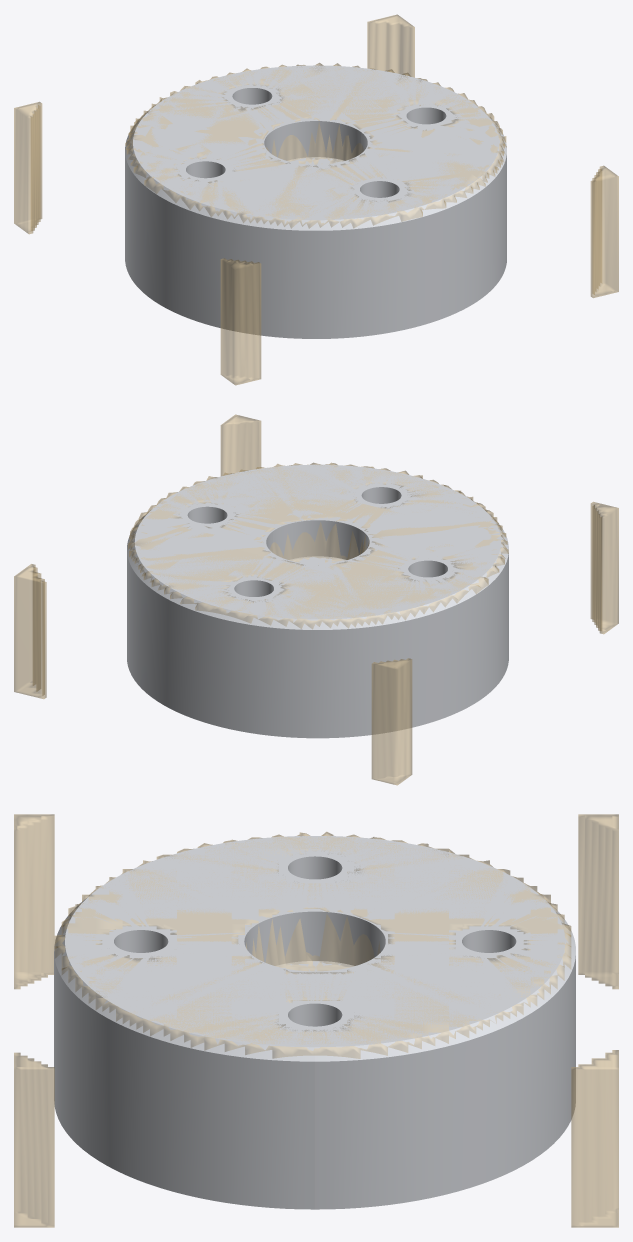
The model's file is horn_adapter.cam.glb.
The picture shows the model from 3 angles, top to bottom: view 1: azimuth 30°, elevation 25°; view 2: azimuth 150°, elevation 25°; view 3: azimuth 270°, elevation 25°; orthographic projection. The views are drawn at different scales.
Visible parts, largest first — view 1: part, stock; view 2: part, stock; view 3: part, stock.
Part boxes in pixels (left/top/right/bottom): part: left=125, top=65, right=506, bottom=338; stock: left=14, top=14, right=618, bottom=385; part: left=127, top=464, right=508, bottom=738; stock: left=14, top=414, right=618, bottom=785; part: left=54, top=836, right=575, bottom=1209; stock: left=14, top=814, right=618, bottom=1227.
Bounding box in the file's own units: 0.0278 × 0.008 × 0.0278.
